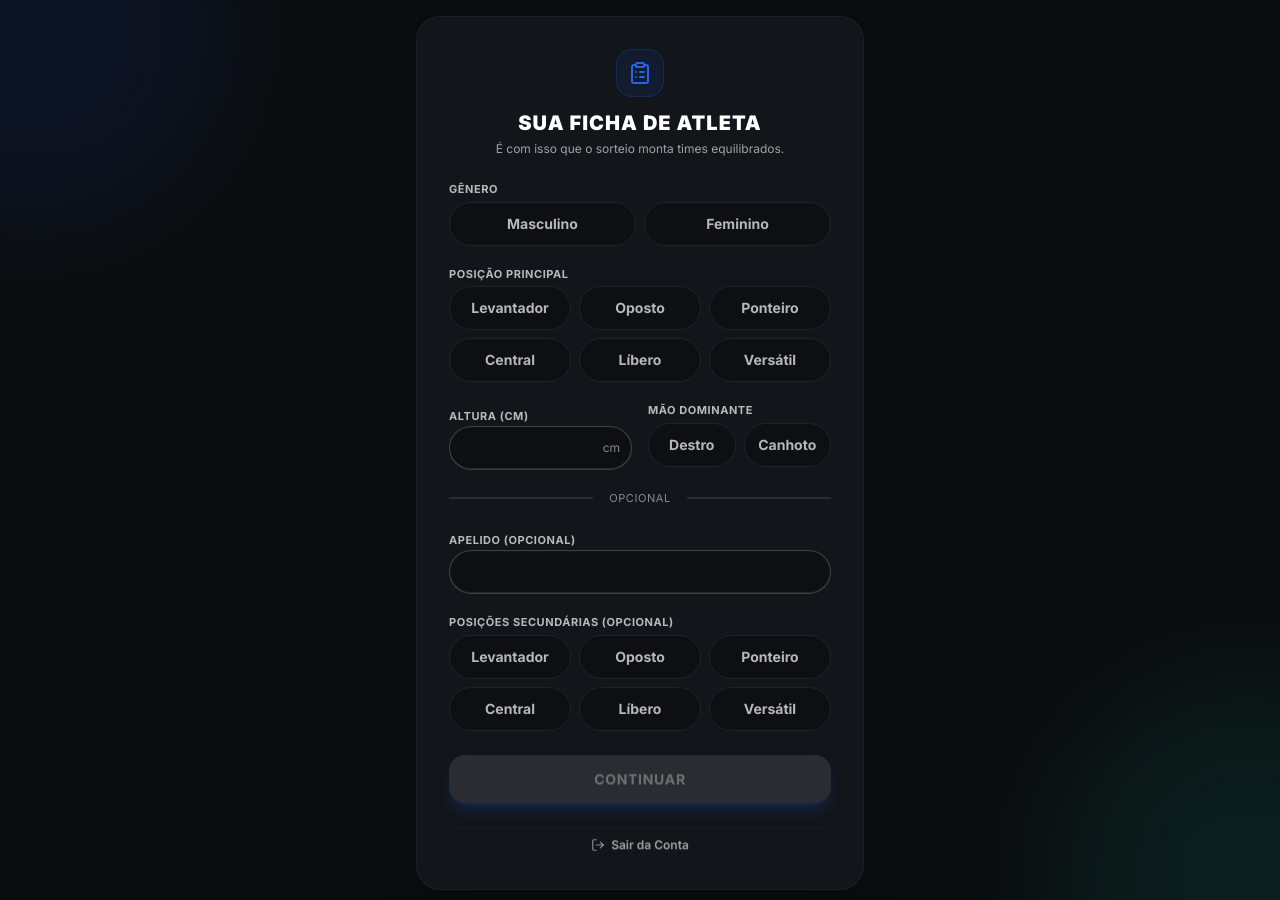
CompleteAthleteProfilePage › continuar fica desabilitado ate os quatro obrigatorios
Expected: the button "Continuar" is disabled, [449,754,831,802]
Click the radio button labelled "Masculino". click: (542, 224)
box: [449,202,636,246]
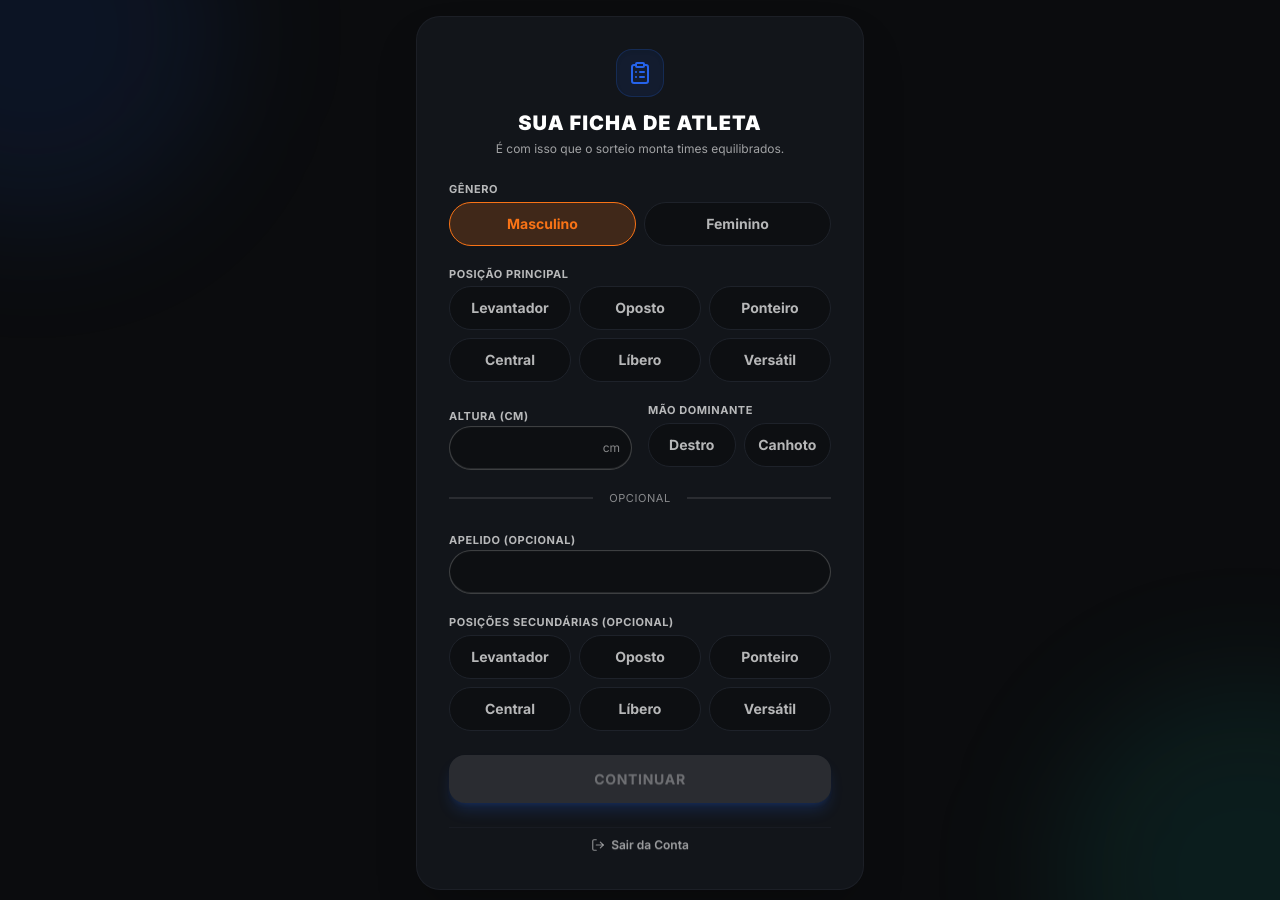
Click the radio button labelled "Ponteiro". click: (770, 308)
box: [709,286,831,330]
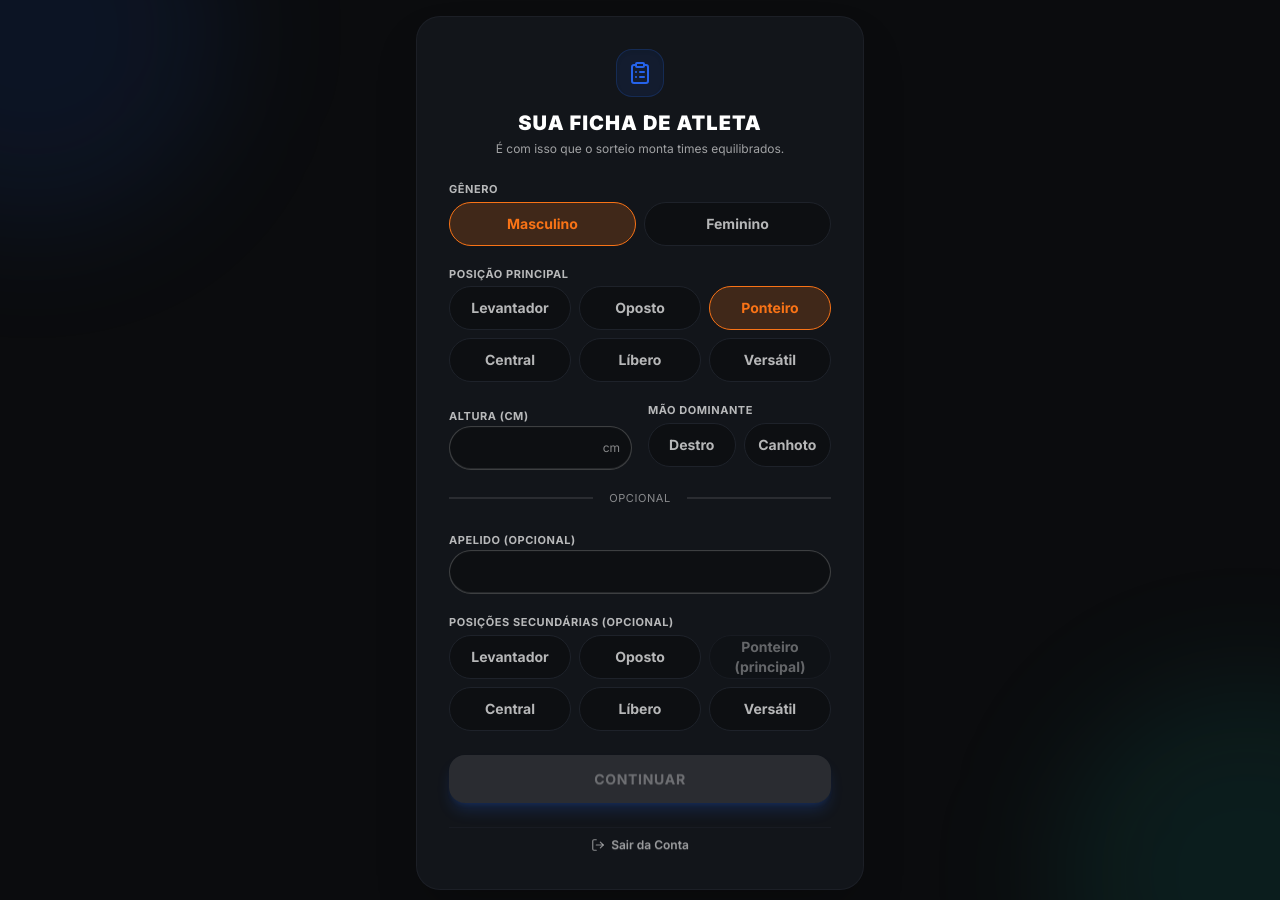
Type "182" into the number field labelled "Altura (cm)". click: (540, 448)
box: [449,426,632,470]
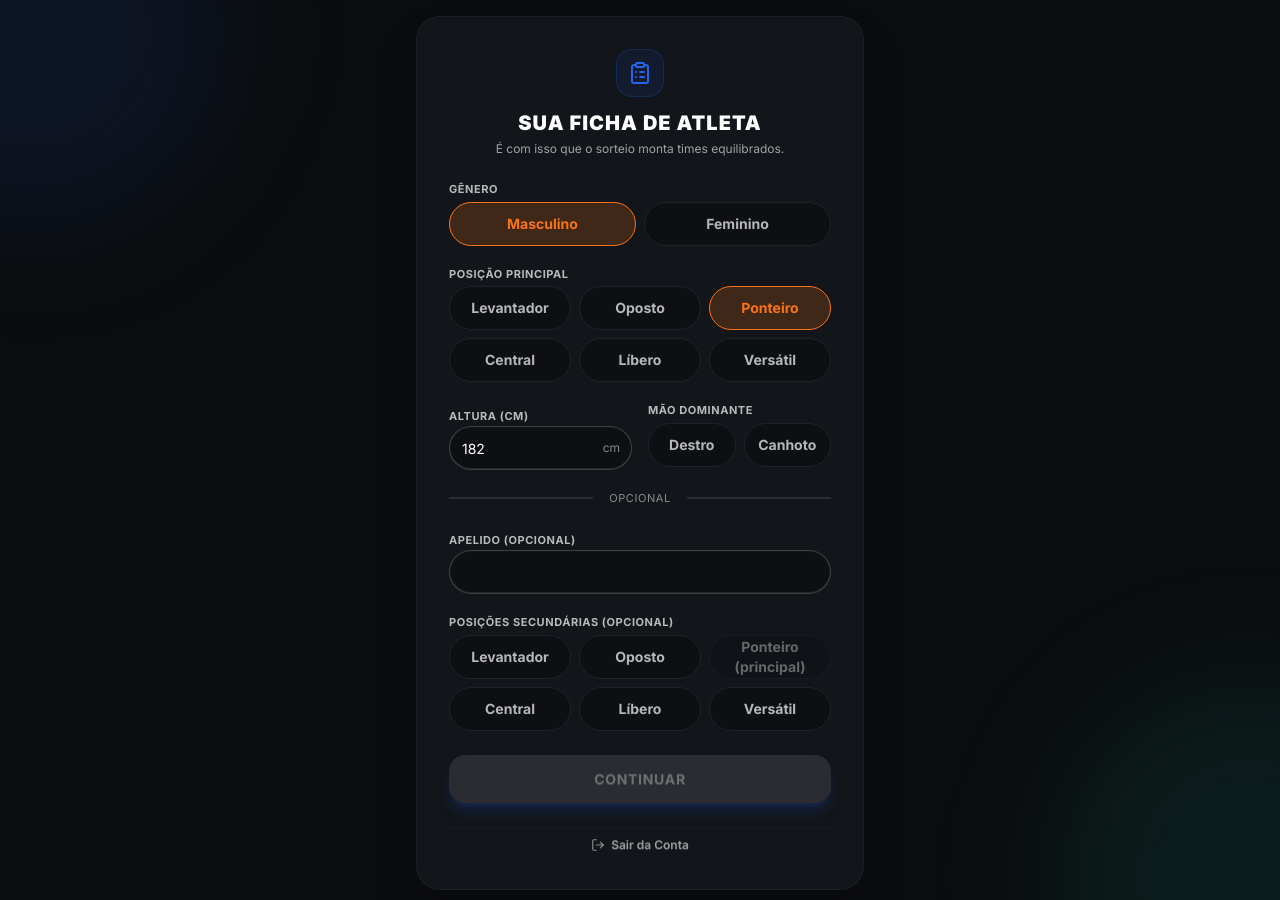
Click the radio button labelled "Destro". click: (692, 444)
box: [648,422,736,466]
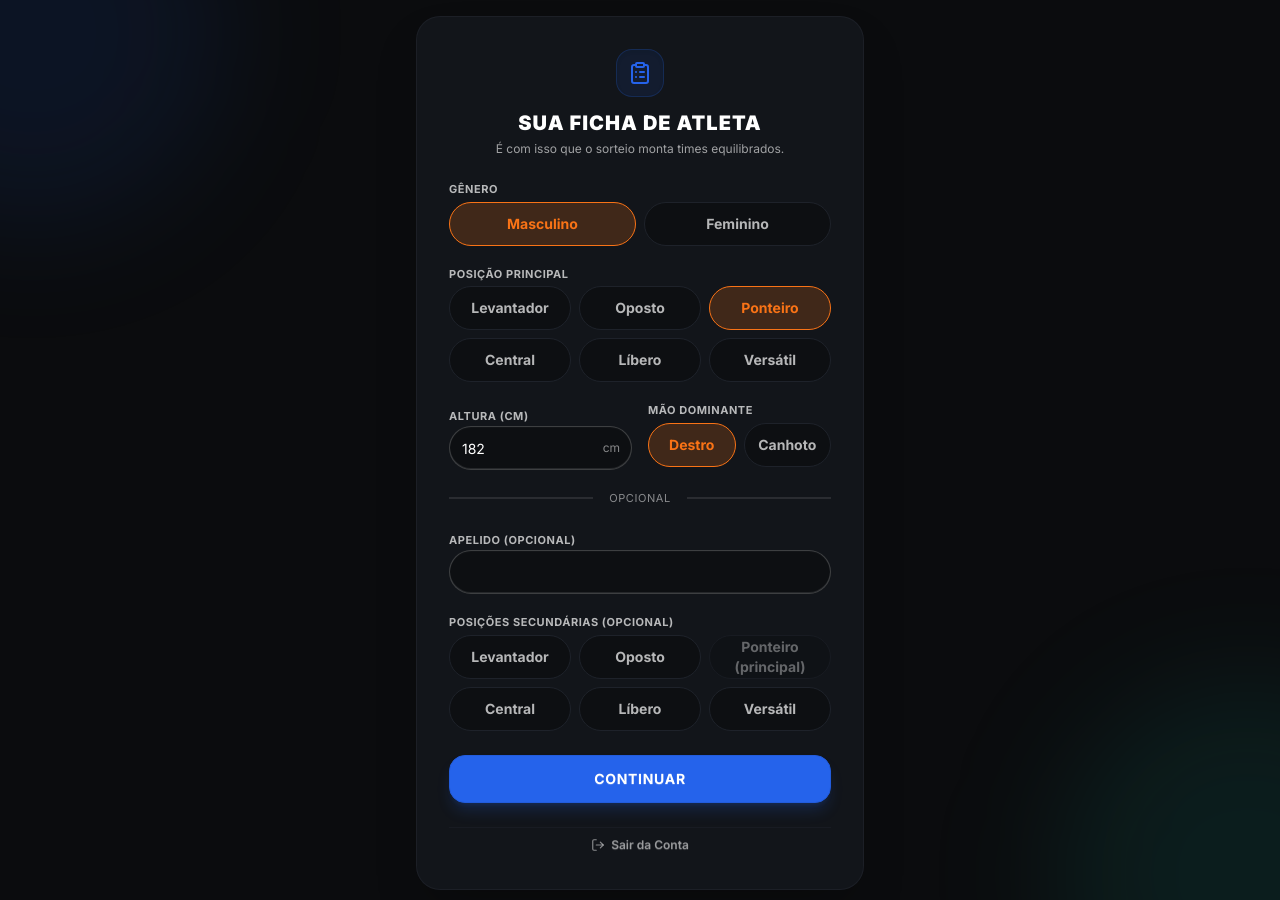
Expected: the text "É com isso que o sorteio monta times equilibrados." is shown, [496,141,784,156]
Result: the button "Continuar" is enabled at [449,754,831,802]
